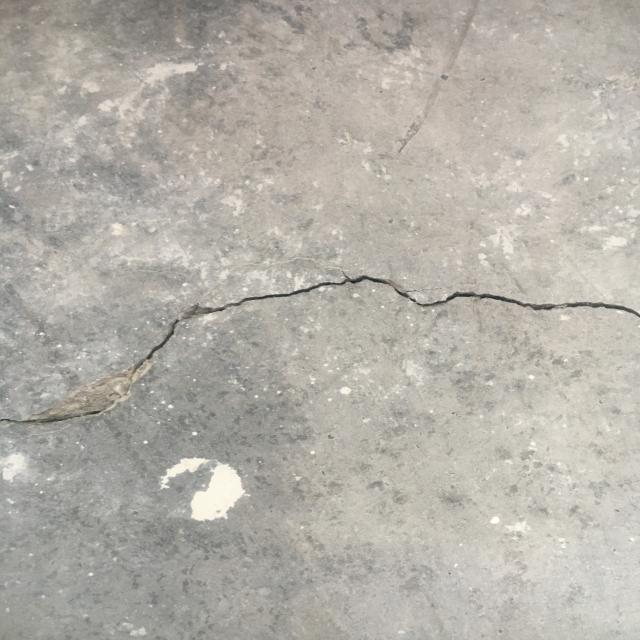Rachadura: (0, 274, 640, 423)
